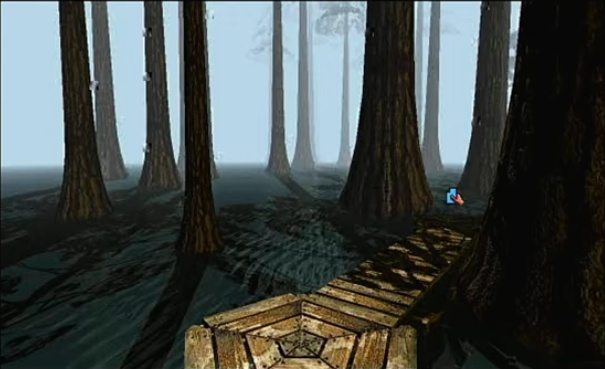Keep: (441, 184, 468, 208)
